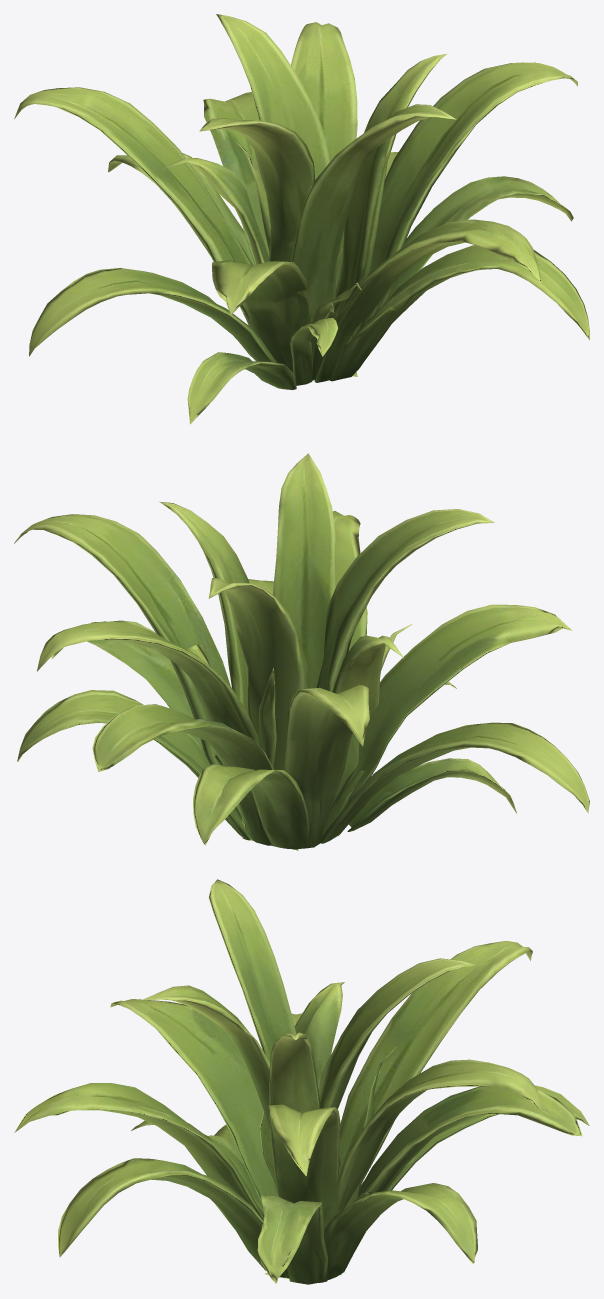
The model's file is grass.glb.
3 views of the same model, one above another, from view 1: azimuth 30°, elevation 25°; view 2: azimuth 150°, elevation 25°; view 3: azimuth 270°, elevation 25° (orthographic). The views are drawn at different scales.
Visible parts, largest first — view 1: Mesh_0; view 2: Mesh_0; view 3: Mesh_0.
Boxes of the visible parts, x1,y1,x2,y2 form: Mesh_0: (14,14,589,424); Mesh_0: (14,453,589,850); Mesh_0: (14,879,589,1284).
Size of the model in its own units: 1 by 0.5343 by 0.9021.
1 material, 1 textured.
